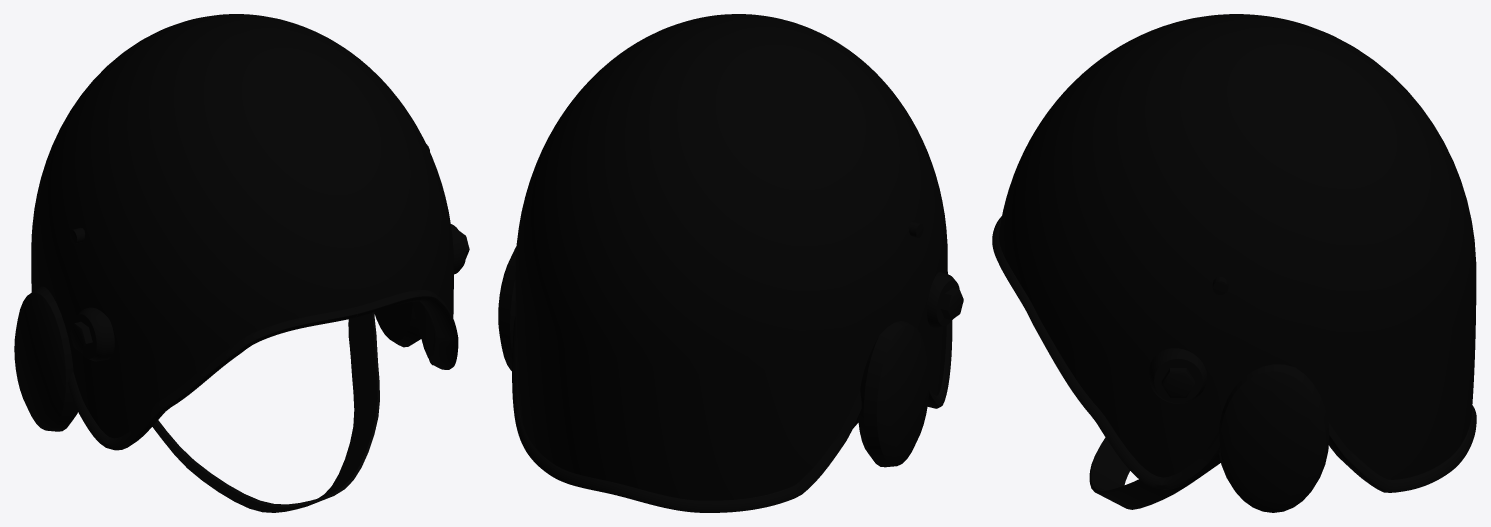
Rendered from _test_helmet_3.glb.
3 renders of one model, left to right at view 1: azimuth 30°, elevation 25°; view 2: azimuth 150°, elevation 25°; view 3: azimuth 270°, elevation 25°, orthographic. The views are drawn at different scales.
Visible parts, largest first — view 1: body; view 2: body; view 3: body.
Part boxes in pixels (box(x1,y1,x2,y2)): body: box(14, 14, 469, 512); body: box(498, 14, 963, 512); body: box(992, 14, 1476, 512).
Size of the model in its own units: 0.274 by 0.2945 by 0.2787.
6 materials, 6 textured.
